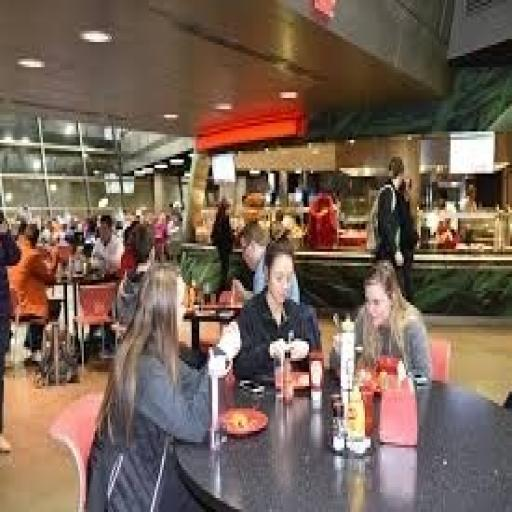eating: (82, 260, 242, 509), (329, 257, 434, 386), (231, 235, 322, 383)
